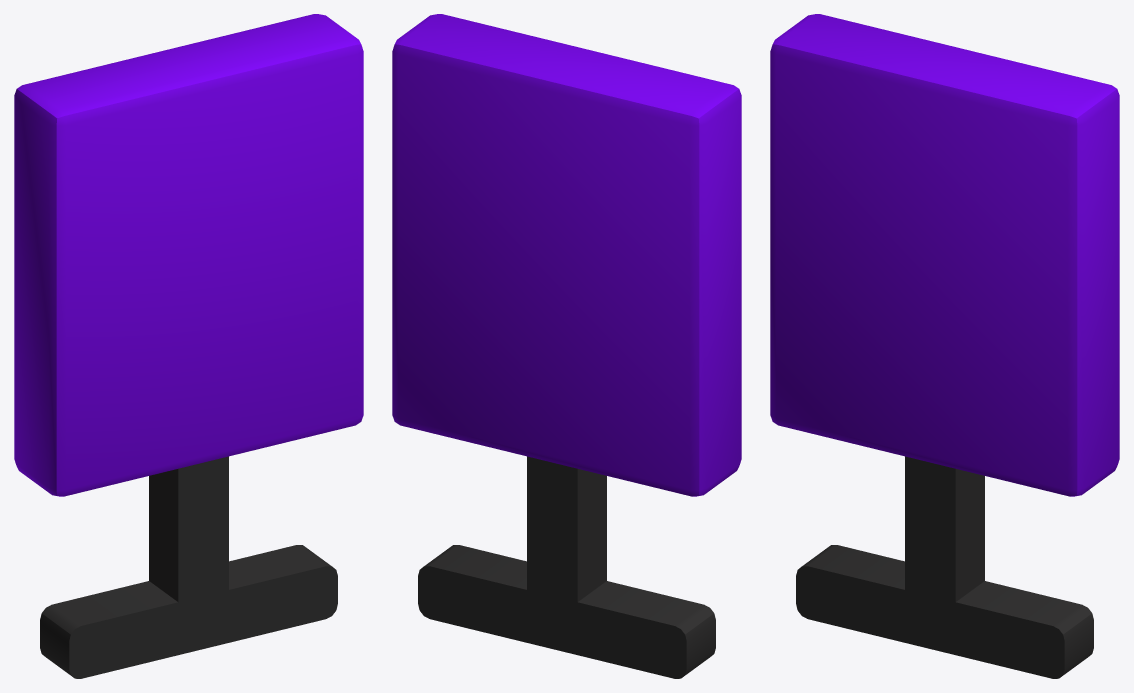
File: Flat_Hammer__01.fbx
3 renders of one model, left to right at view 1: azimuth 30°, elevation 25°; view 2: azimuth 150°, elevation 25°; view 3: azimuth 330°, elevation 25°, orthographic.
Visible parts, largest first — view 1: Obstacle_Flat_Hammer _01; view 2: Obstacle_Flat_Hammer _01; view 3: Obstacle_Flat_Hammer _01.
Part boxes in pixels (<box>): Obstacle_Flat_Hammer _01: <box>14,14,363,678</box>; Obstacle_Flat_Hammer _01: <box>392,14,741,678</box>; Obstacle_Flat_Hammer _01: <box>770,14,1119,678</box>.
Bounding box in the file's own units: 66.76 × 117 × 16.92.
1 material, 1 textured.
